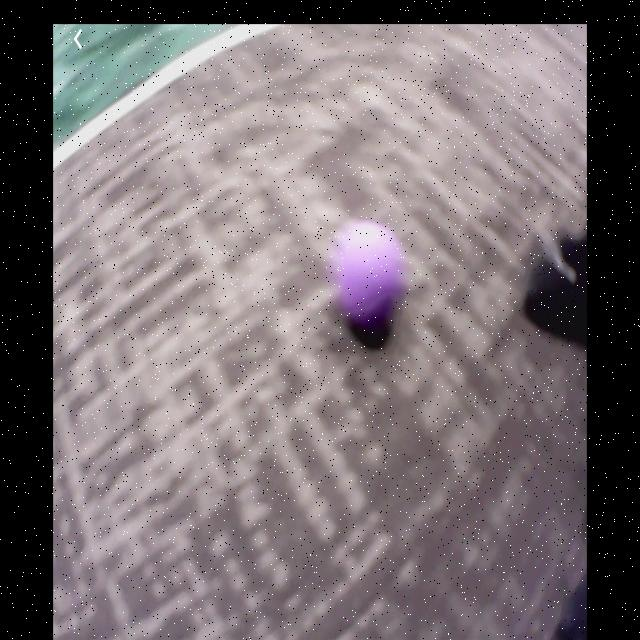ball: (336, 223, 401, 324)
